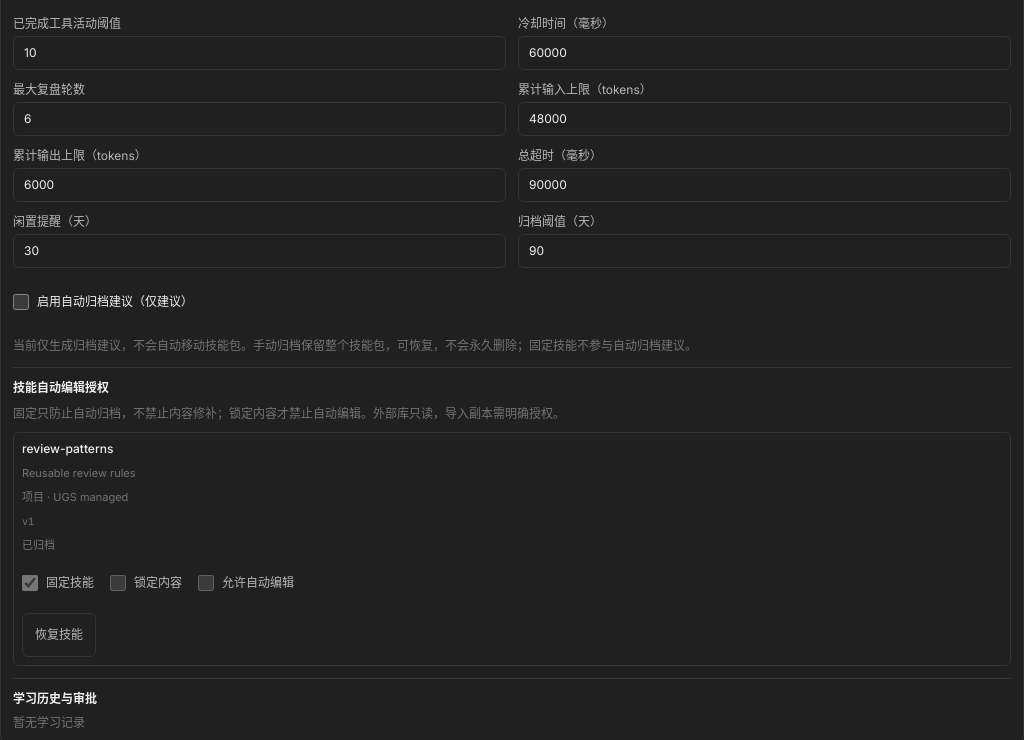
Test case: SkillLearningSettings › keeps an archived package recoverable after a failed restore and permits retry
This screenshot has width=1024, height=740.
(page scrolled)
Click the button named "恢复技能 review-patterns": x=59, y=635 [22,613,96,657]
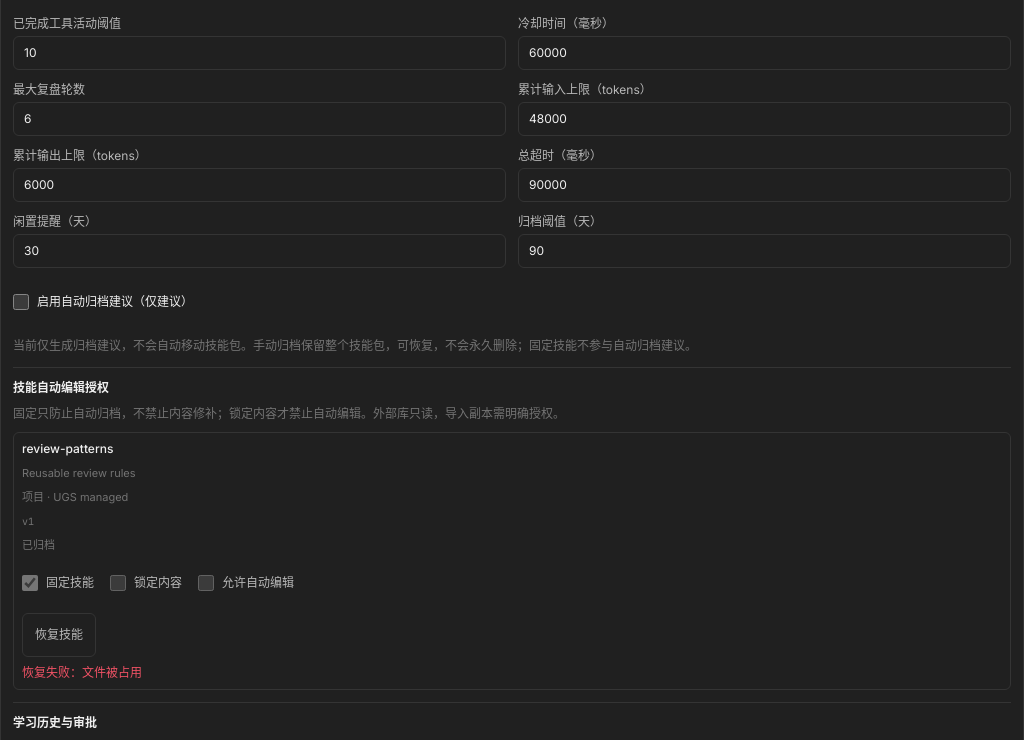
Expected: the message "已归档" is shown, [22,538,55,552]
Now the message "恢复失败：文件被占用" is shown, box [22,665,142,680]
Click the button named "恢复技能 review-patterns": x=59, y=635 [22,613,96,657]
(page scrolled)
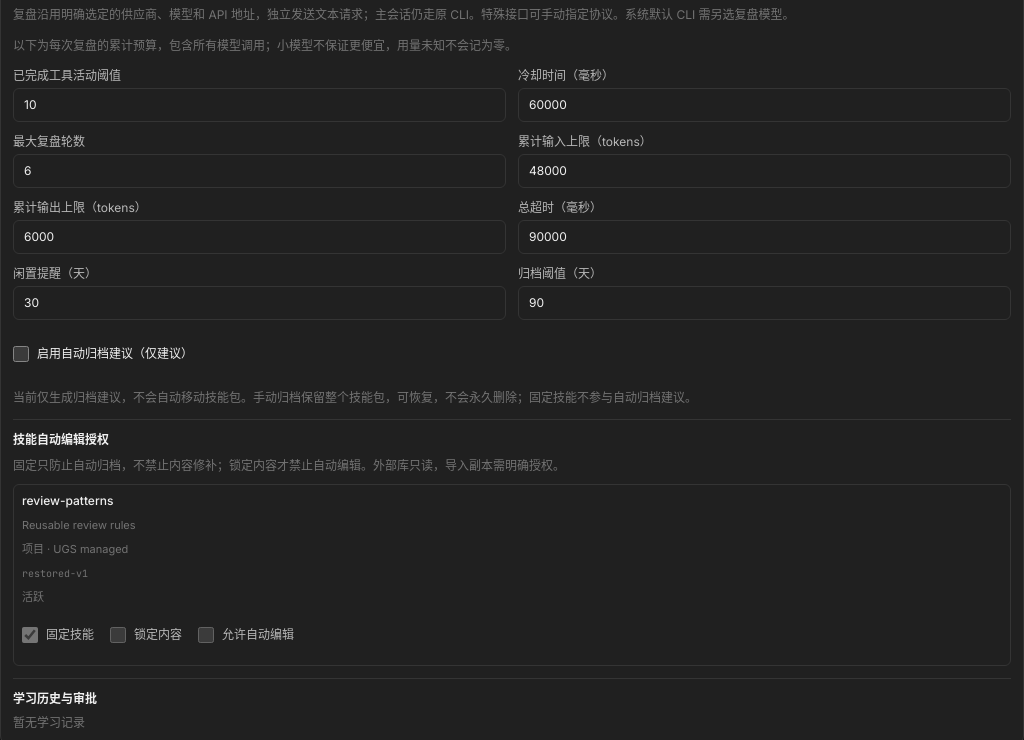
Now the message "活跃" is shown, box [22,590,44,604]
Now the message "恢复失败：文件被占用" is gone
